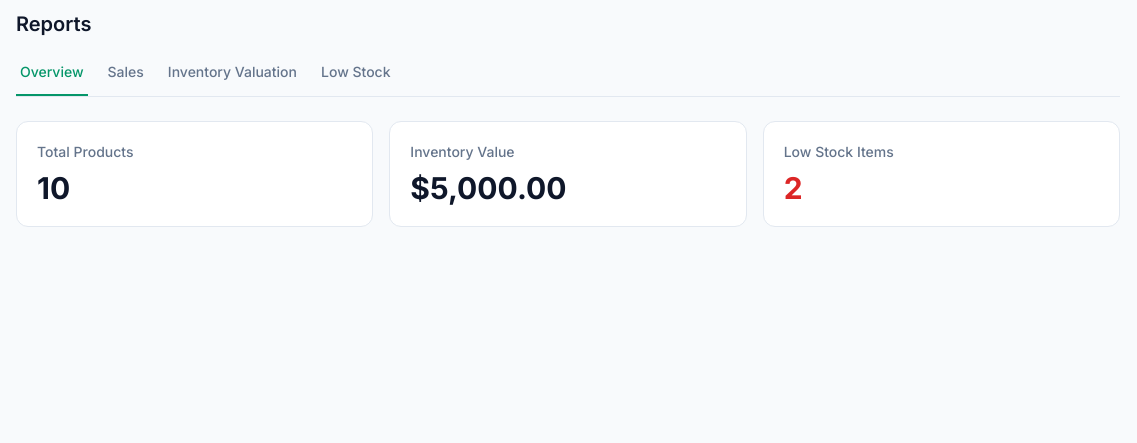
Test case: ReportsPage › as admin › shows sales report when Sales tab clicked
The width and height of the screenshot is (1137, 443).
What coordinates should you click on to do the following:
click the tab "Sales"
I would click on:
 (126, 79)
Its box is [104,62,148,96].
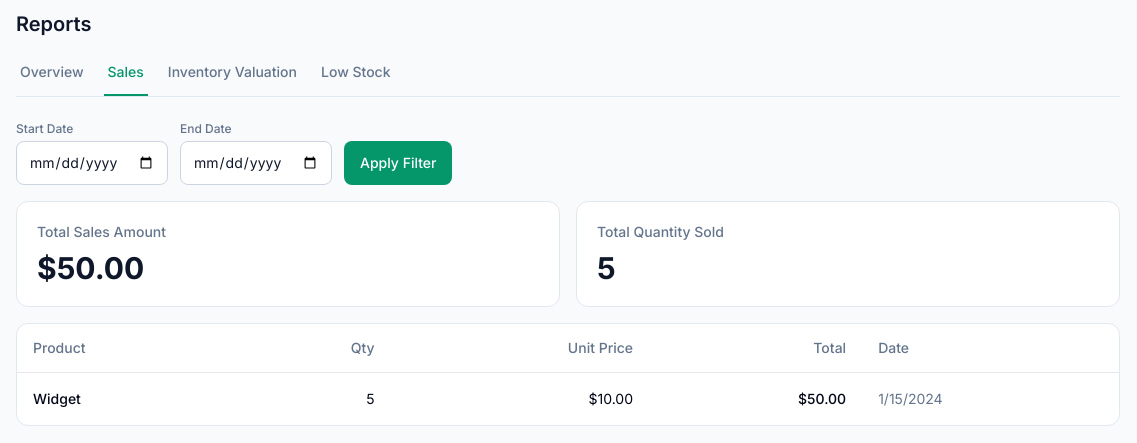
Now the text "Widget" is shown, box [17,372,242,424]
